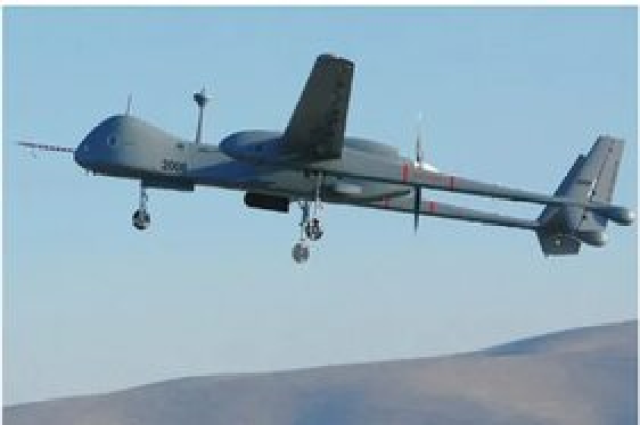military drone: (18, 52, 636, 263)
